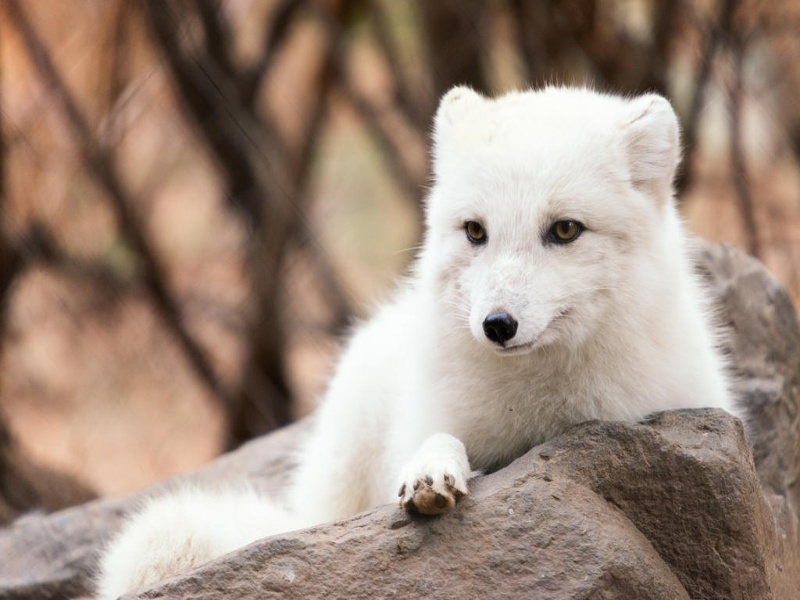fox: (109, 78, 731, 587)
